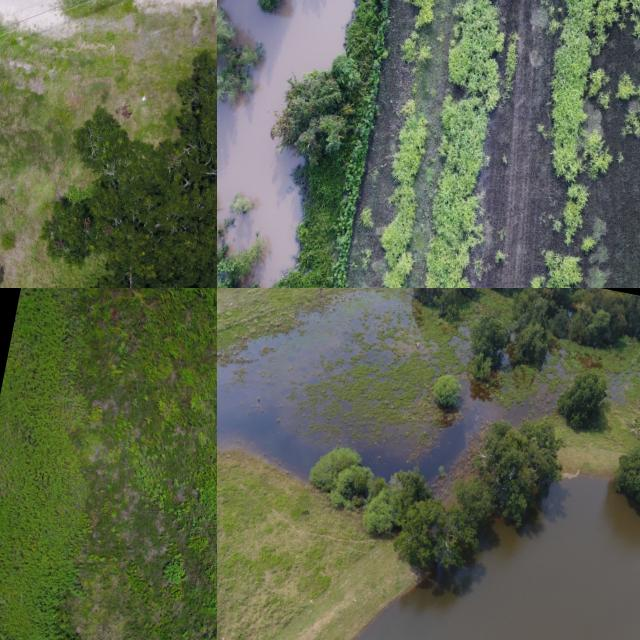fire: (217, 0, 354, 288)
